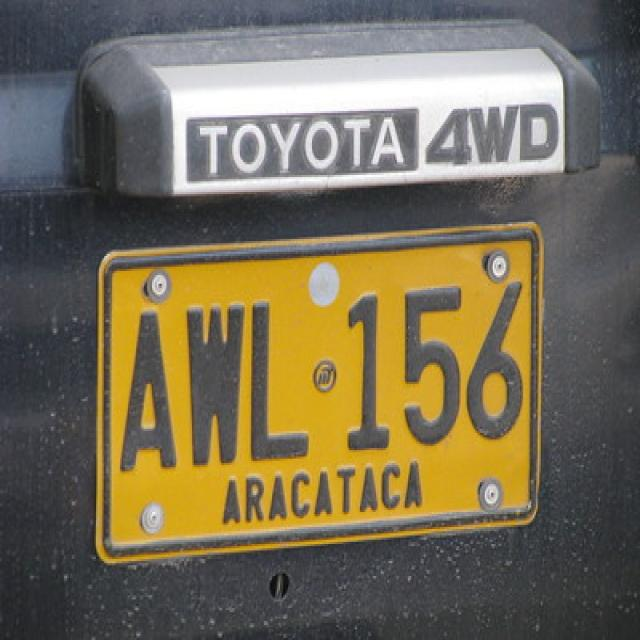placa_carro: (75, 215, 567, 593)
